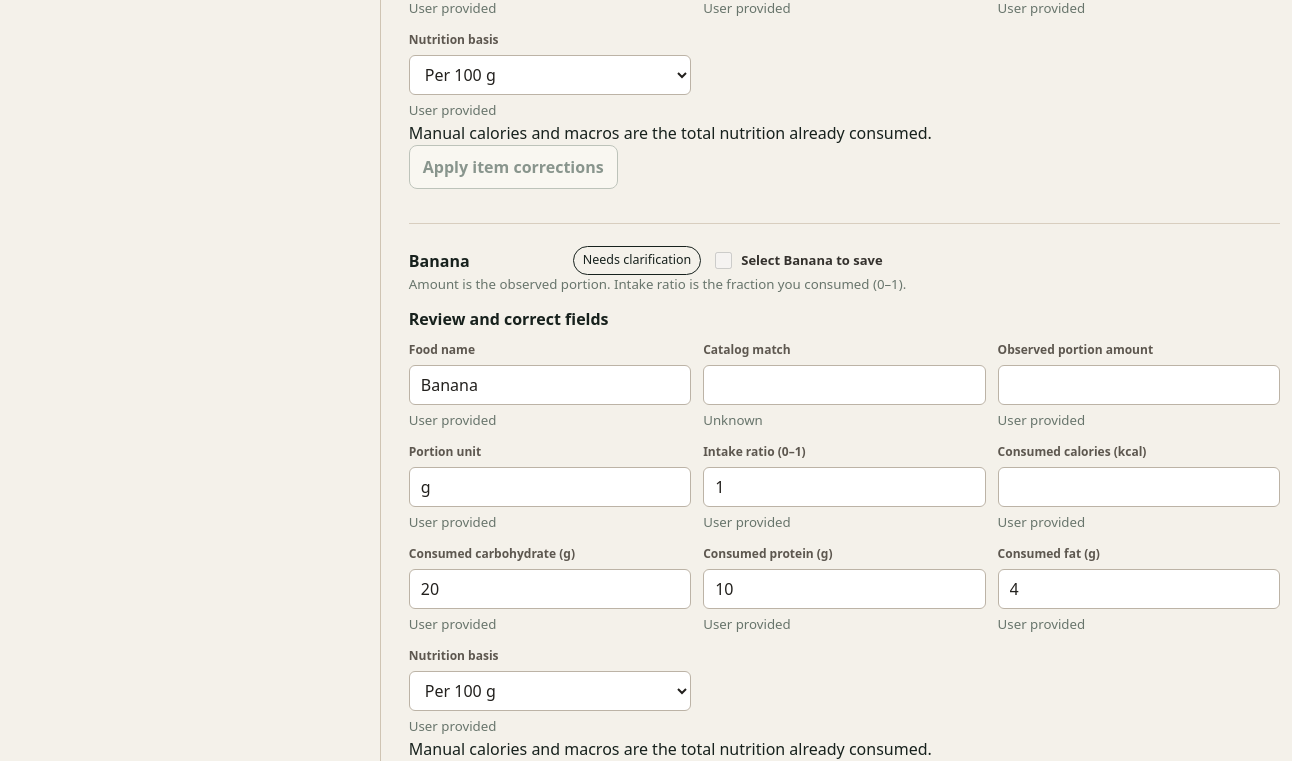
Scenario: interactive smart entry with the real draft hook › keeps manual corrections after failure and sends only changed fields for one item
The image size is (1292, 761).
(page scrolled)
In the number field labelled "Observed portion amount": (1139, 385) [998,365,1280,405], type "50"
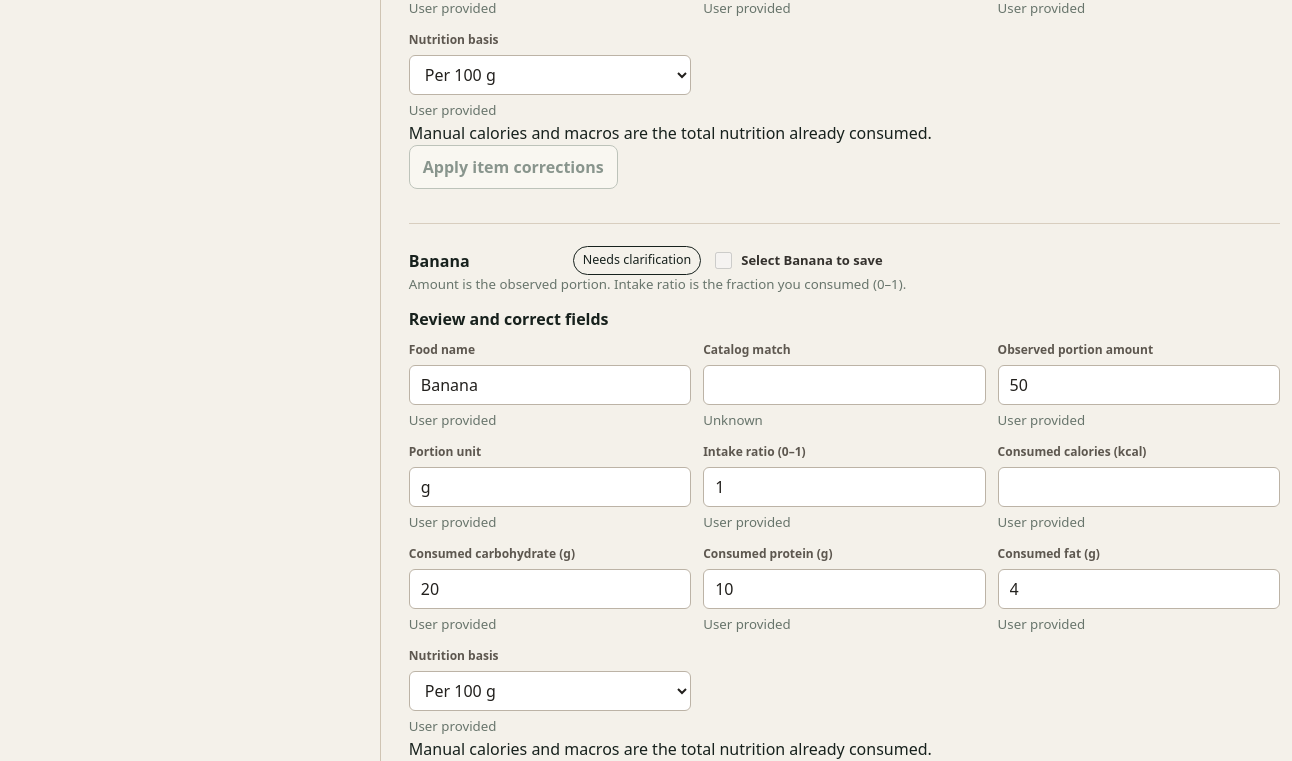
Replace the text in the number field labelled "Intake ratio (0–1)" with "0.5": (844, 487) [703,467,986,507]
(page scrolled)
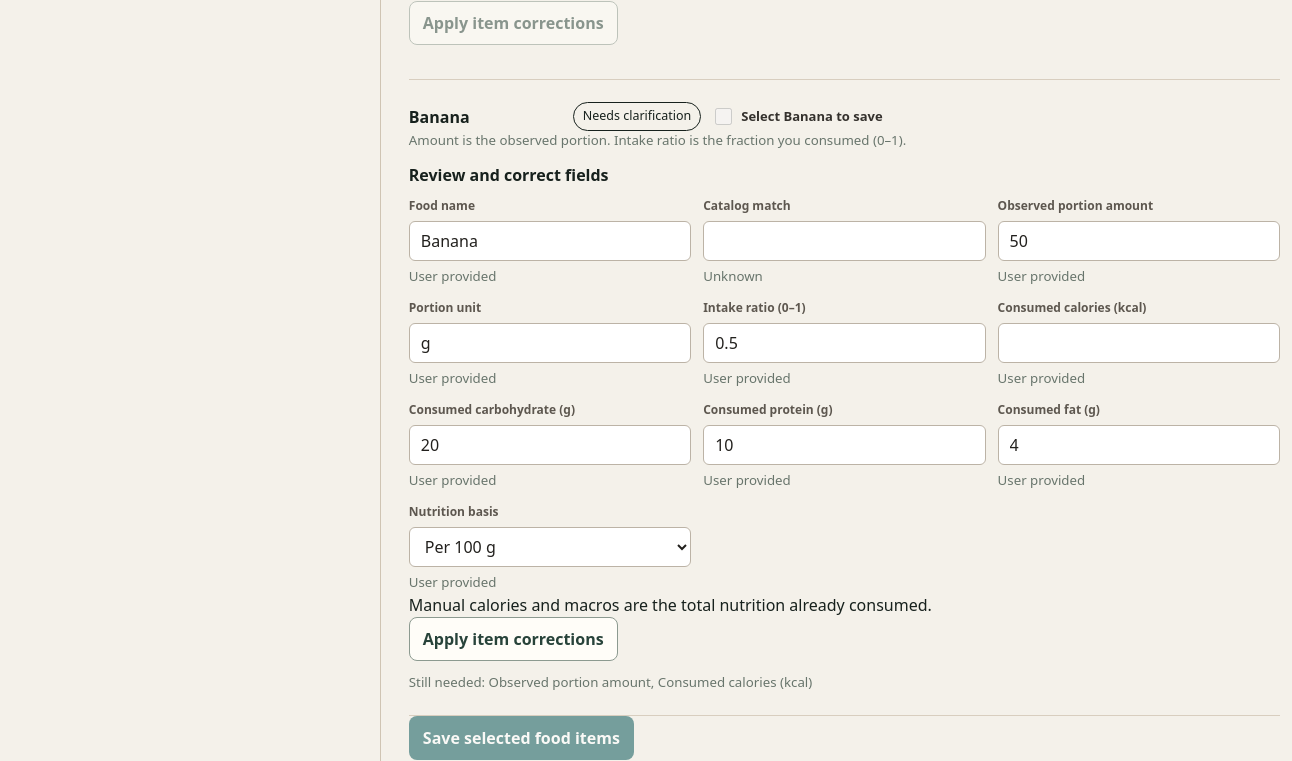
Click the 2nd button "Apply item corrections": (513, 639) [409,617,618,661]
(page scrolled)
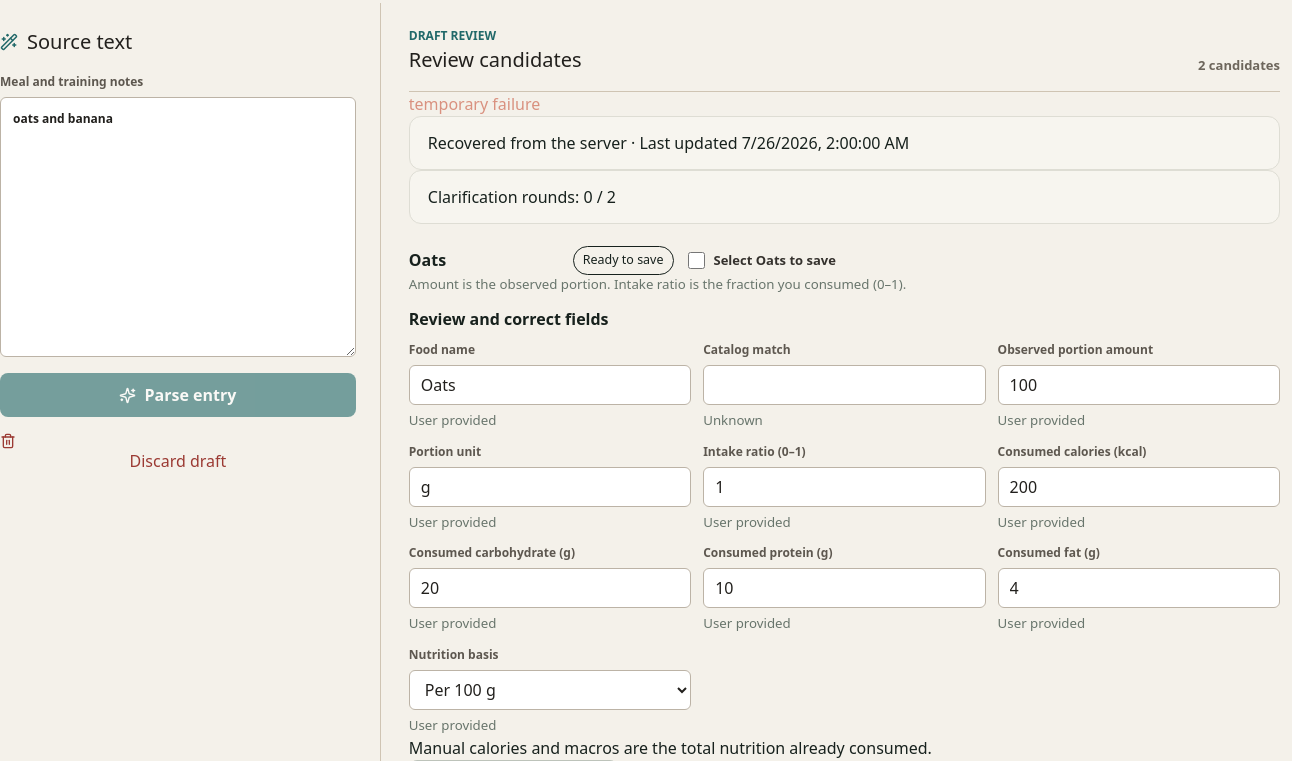
Expected: the number field labelled "Observed portion amount" holds "100", [998,365,1280,405]
Expected: the text "temporary failure" is shown, [409,93,540,115]
